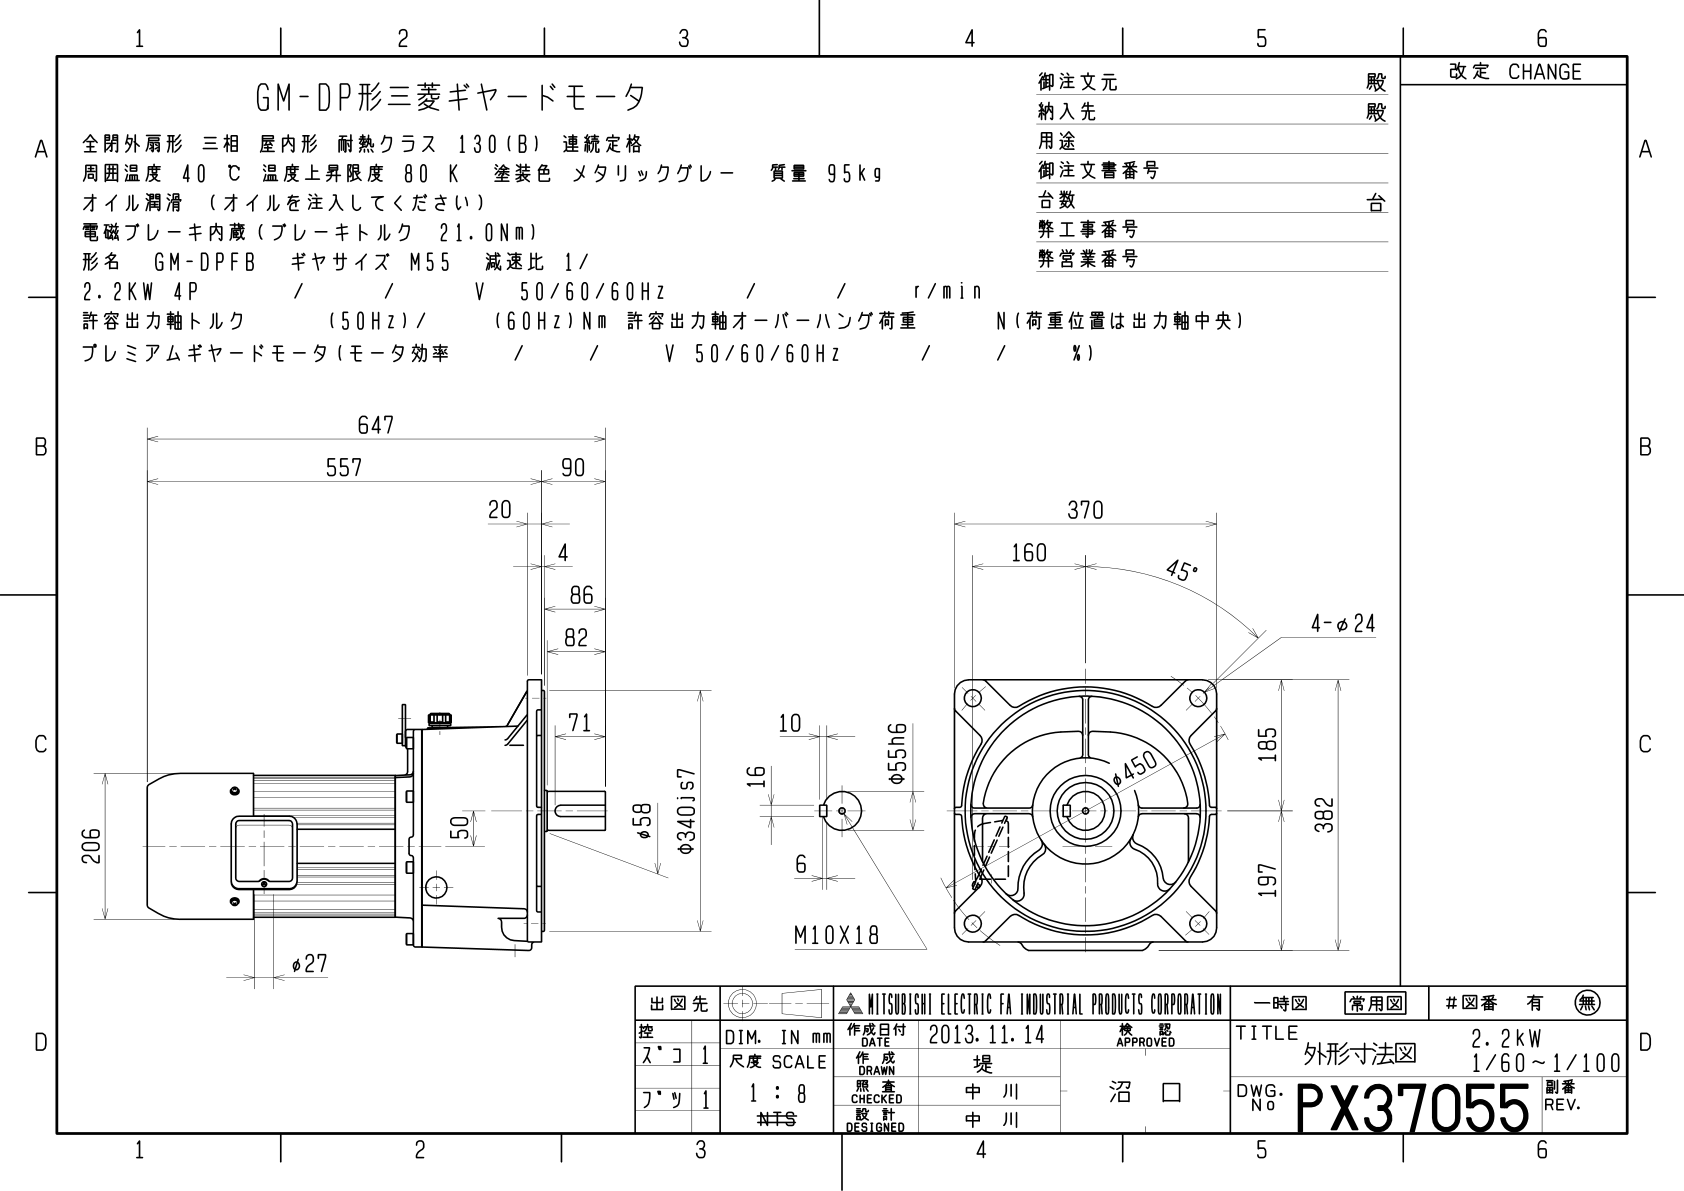GM_DP_屋内_三相_フランジ: (67, 367, 1392, 978)
